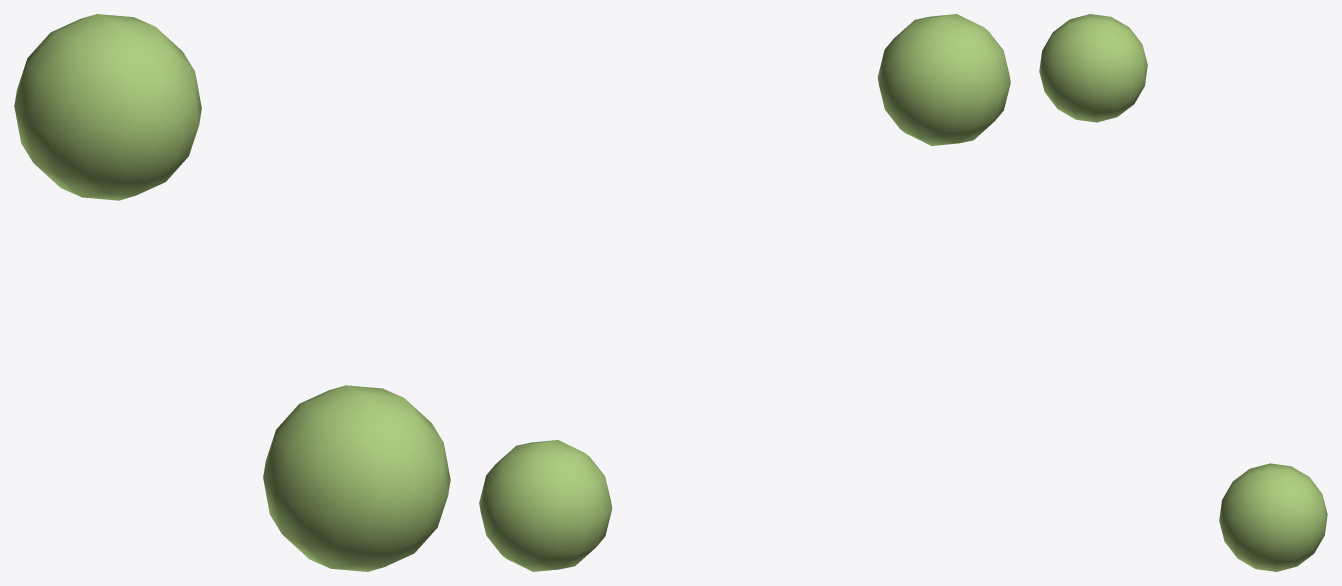
File: inferior-epigastric-nodes-l.glb
3 views of the same model, side by side, from view 1: azimuth 30°, elevation 25°; view 2: azimuth 150°, elevation 25°; view 3: azimuth 270°, elevation 25° (orthographic). The views are drawn at different scales.
Visible parts, largest first — view 1: Inferior epigastric nodes.l; view 2: Inferior epigastric nodes.l; view 3: Inferior epigastric nodes.l.
Part boxes in pixels (x1,y1,x2,y2): Inferior epigastric nodes.l: (14, 14, 450, 571); Inferior epigastric nodes.l: (479, 14, 1010, 571); Inferior epigastric nodes.l: (1039, 14, 1327, 571).
Bounding box in the file's own units: 0.00902 × 0.0114 × 0.00689.
